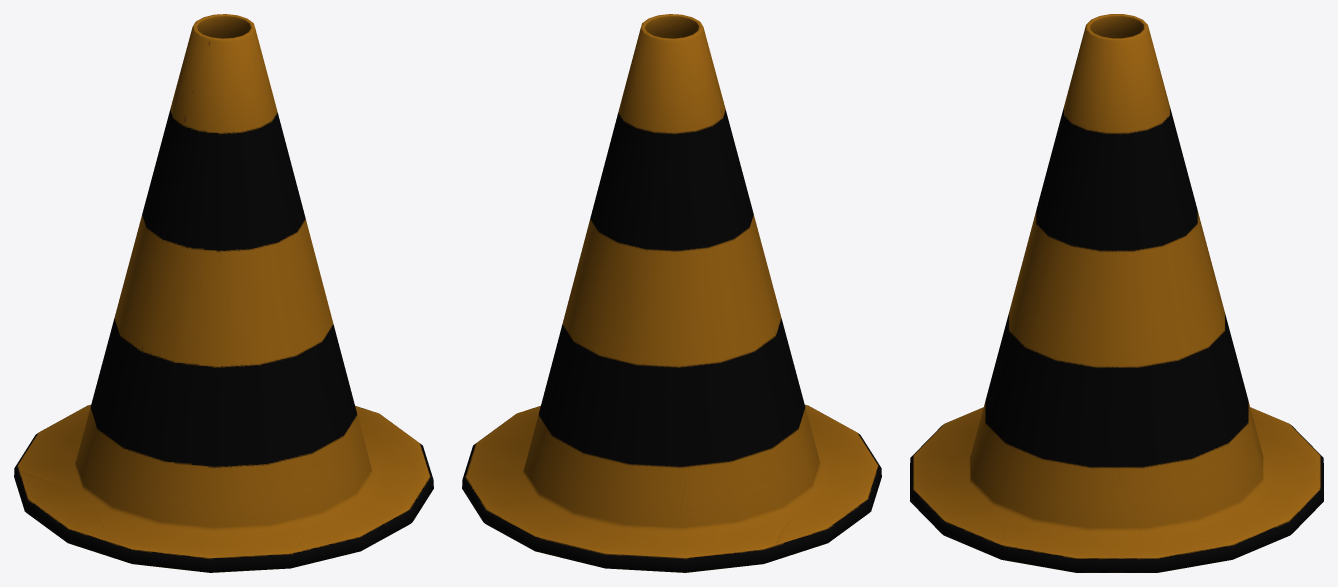
The model's file is plot chantier.obj.
3 renders of one model, left to right at view 1: azimuth 30°, elevation 25°; view 2: azimuth 150°, elevation 25°; view 3: azimuth 270°, elevation 25°, orthographic.
Visible parts, largest first — view 1: lp_Plane; view 2: lp_Plane; view 3: lp_Plane.
Part boxes in pixels (x1,y1,x2,y2): lp_Plane: [14, 14, 433, 572]; lp_Plane: [462, 14, 881, 572]; lp_Plane: [910, 14, 1323, 572].
Size of the model in its own units: 2.3 by 2.81 by 2.3.
Materials: 1 (1 with a texture image).
